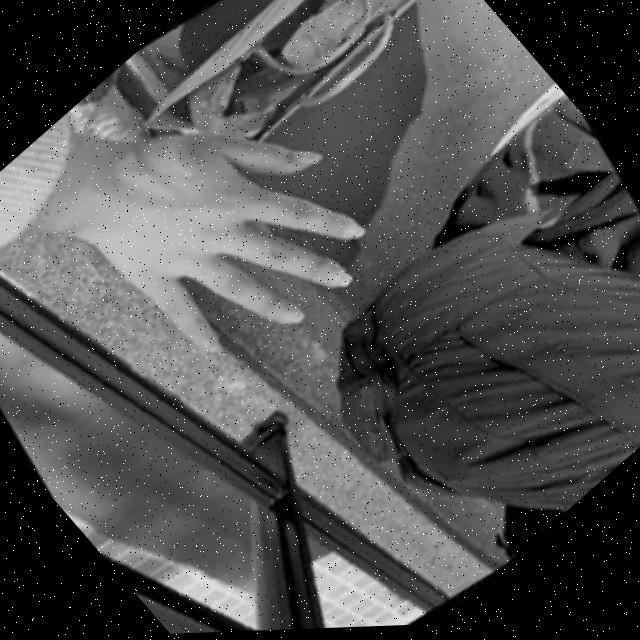no-gloves: (62, 52, 402, 405)
